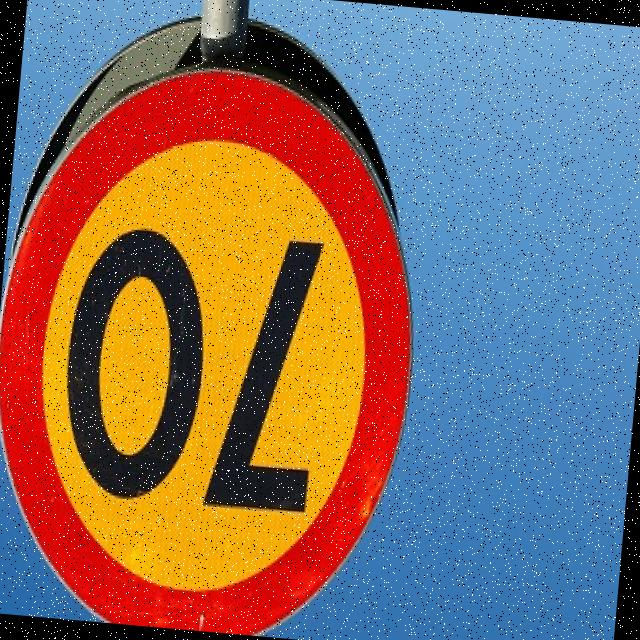speed_limit_70: (0, 59, 434, 640)
